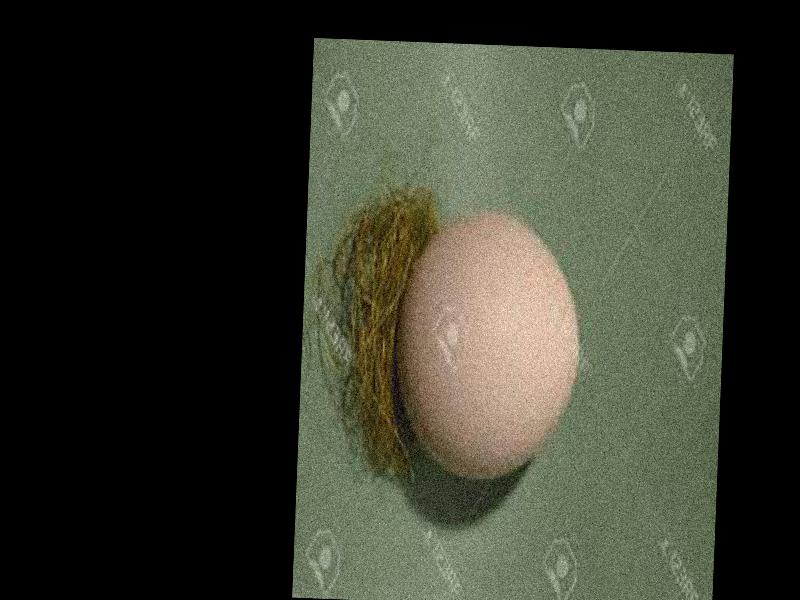Eggs: (394, 209, 585, 483)
